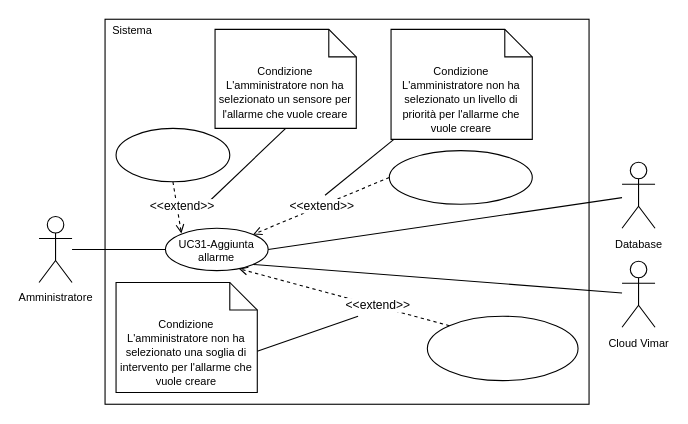
The diagram is 688 pixels wide and 424 high, and some of its shapes have lost their labels. Here are the shapes that lost their labels. From the top down, the centre of each, then its label:
[172,154]: UC46-Errore nessun sensore selezionato
[460,176]: UC47-Errore nessun livello di priorità selezionato
[502,348]: UC48 -Errore nessuna soglia di intervento selezionata
